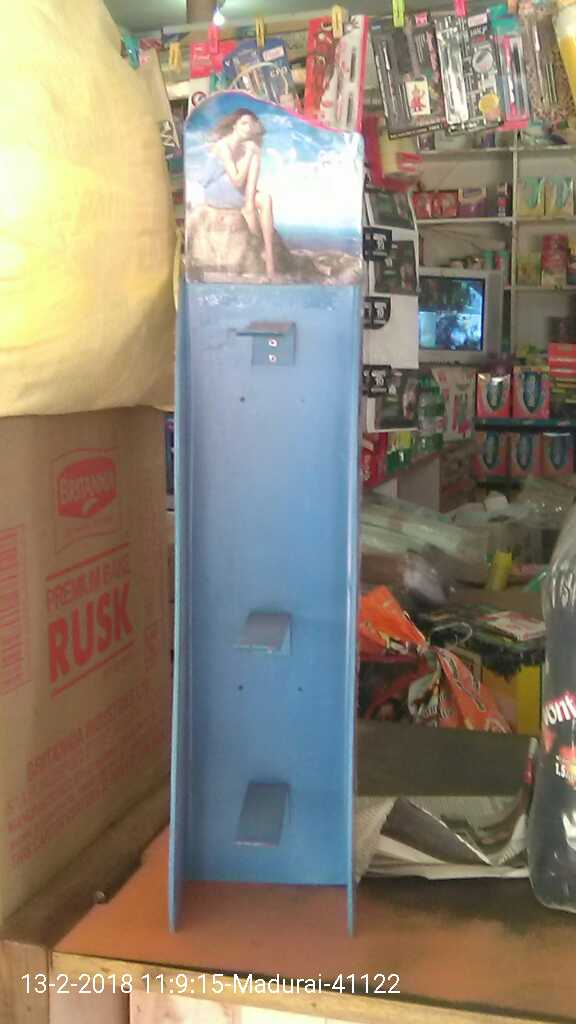reject: (198, 424, 305, 585)
